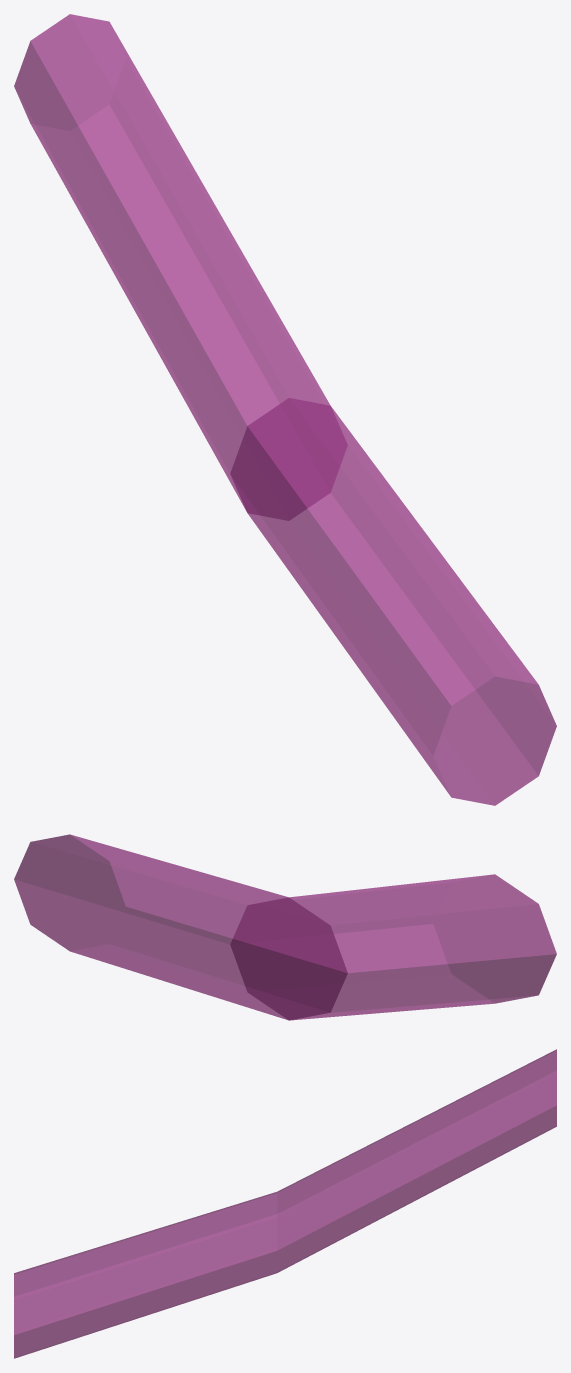
The model's file is SM_Bld_Roof_Edge_Trim_End_01_Collision_01.fbx.
The picture shows the model from 3 angles, top to bottom: view 1: azimuth 30°, elevation 25°; view 2: azimuth 150°, elevation 25°; view 3: azimuth 270°, elevation 25°; orthographic projection. The views are drawn at different scales.
Visible parts, largest first — view 1: SM_Bld_Roof_Edge_Trim_End_01_Collision_01; view 2: SM_Bld_Roof_Edge_Trim_End_01_Collision_01; view 3: SM_Bld_Roof_Edge_Trim_End_01_Collision_01.
Part boxes in pixels (x1,y1,x2,y2): SM_Bld_Roof_Edge_Trim_End_01_Collision_01: (14,14,556,805); SM_Bld_Roof_Edge_Trim_End_01_Collision_01: (14,834,556,1020); SM_Bld_Roof_Edge_Trim_End_01_Collision_01: (14,1049,556,1358).
Size of the model in its own units: 43.59 by 162 by 260.
